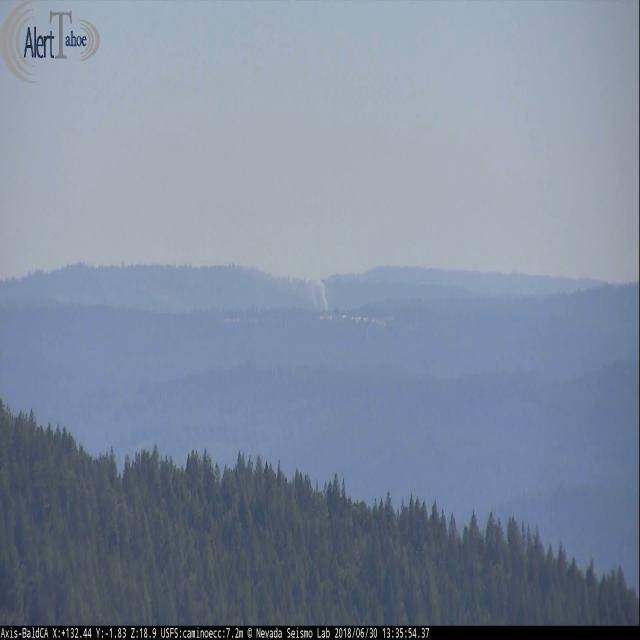smoke: (307, 271, 330, 312)
